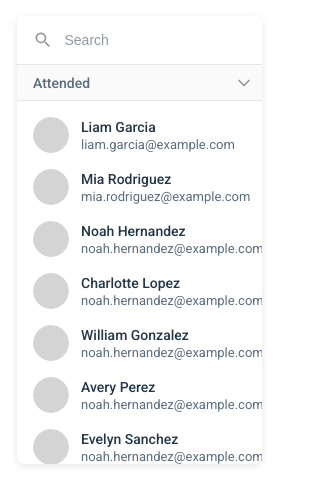
Test case: SearchableList Component › searches for items
Step 1. Type "Liam" into the field with placeholder "Search" → (139, 40), box [16,16,262,64]
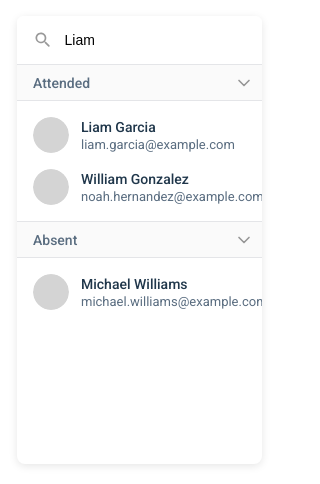
expect the text "Liam Garcia" is shown: met, box [80,119,155,135]
expect the text "Mia Rodriguez" is gone: met
